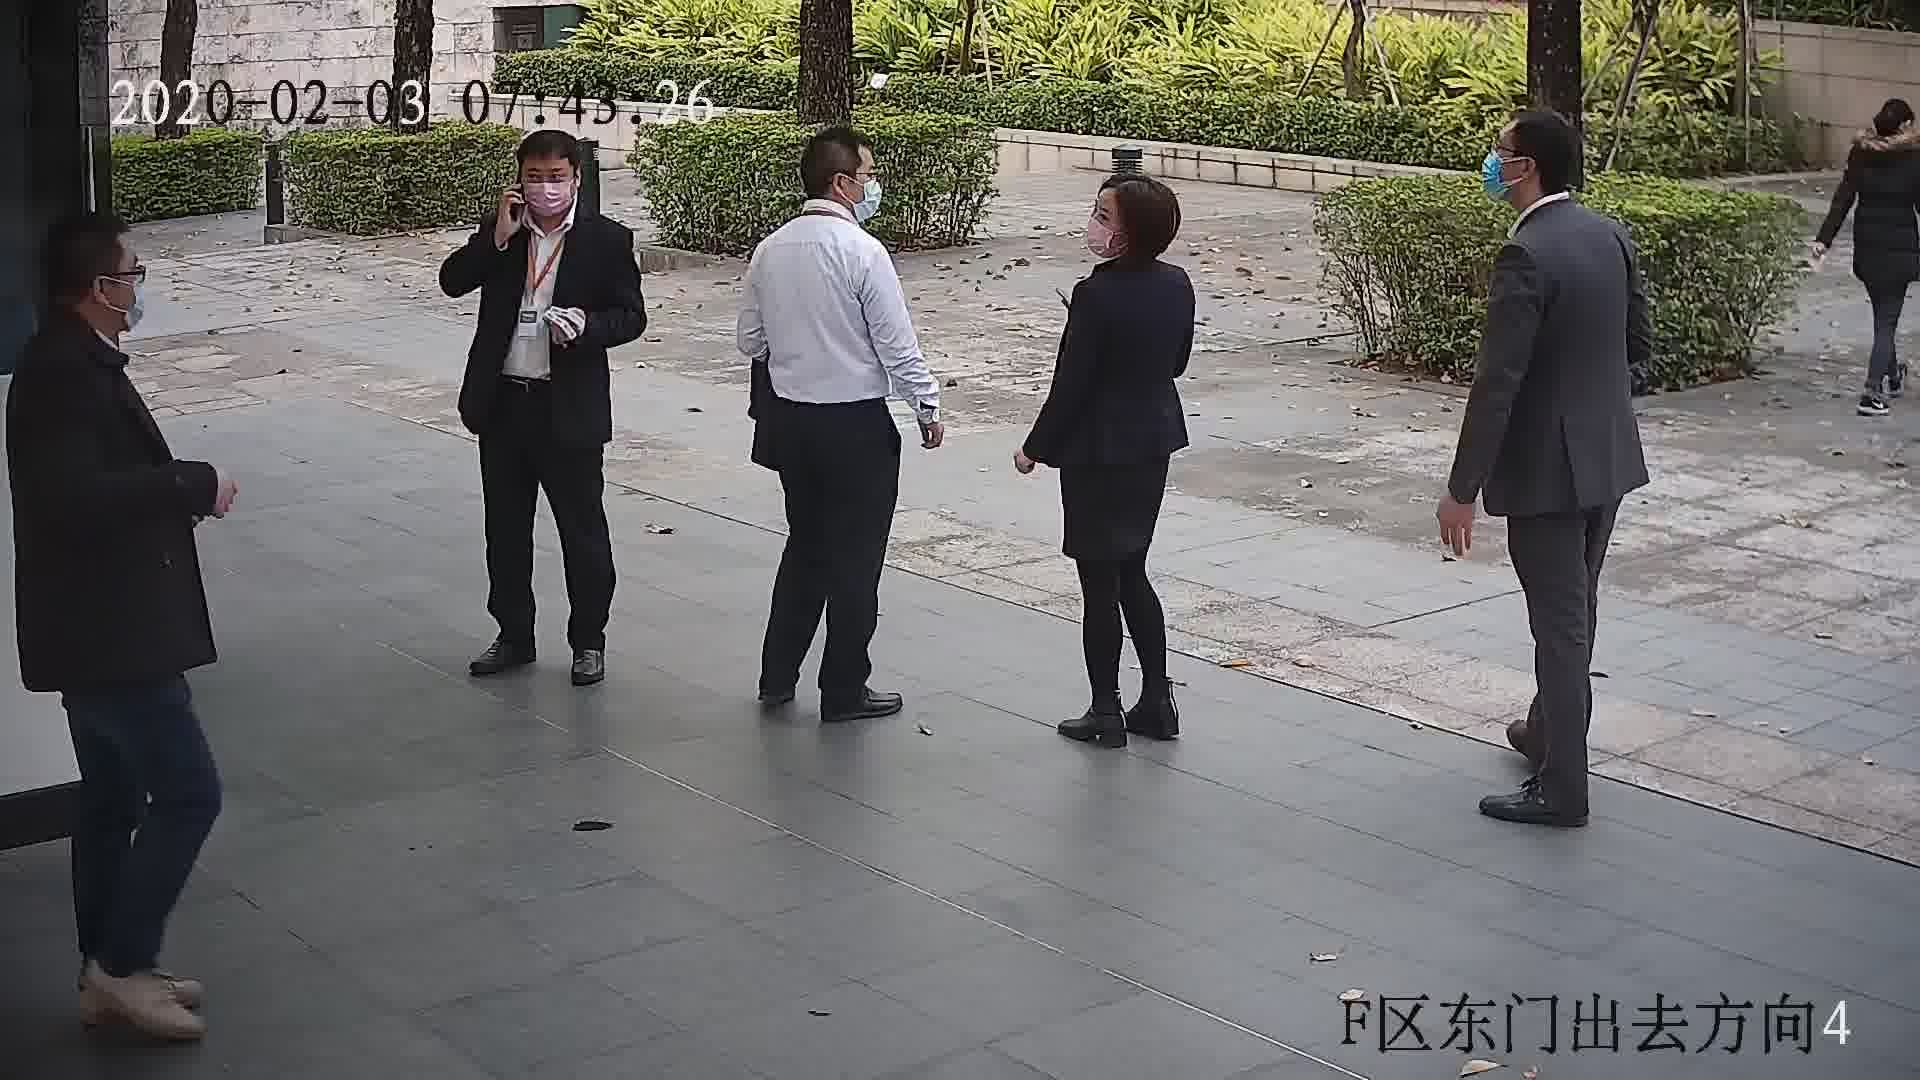face: (73, 245, 147, 318), (507, 150, 579, 221), (837, 146, 887, 224), (1085, 186, 1121, 270)
mask: (523, 180, 575, 219), (1084, 214, 1119, 258), (1482, 147, 1509, 205), (852, 176, 884, 220), (124, 275, 148, 330)
person: (9, 208, 168, 426), (1487, 110, 1633, 263), (470, 131, 636, 261), (756, 128, 896, 271), (1071, 176, 1196, 305), (1846, 94, 1920, 173)
